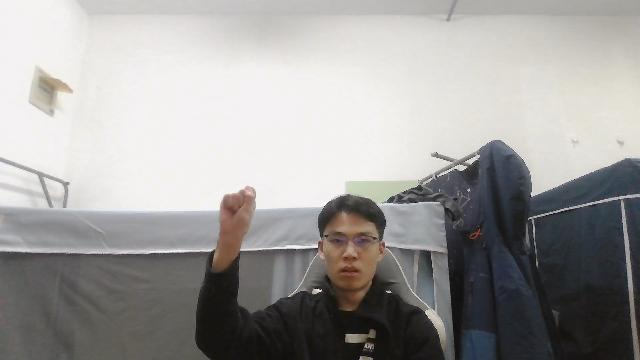ten: (212, 182, 258, 252)
